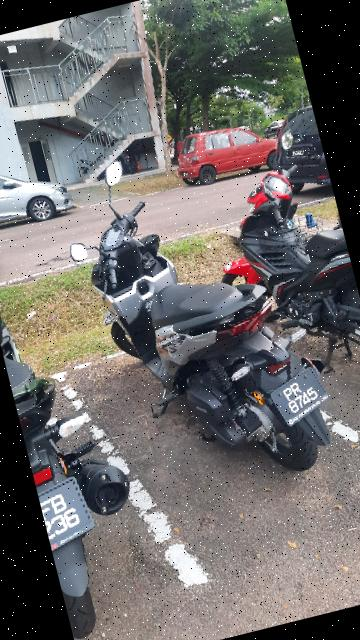License_Plate: (33, 456, 112, 556), (264, 362, 343, 434)
car: (175, 113, 292, 193), (1, 141, 80, 240)
motorcycle: (45, 105, 342, 514), (1, 213, 164, 639), (190, 126, 360, 425)
